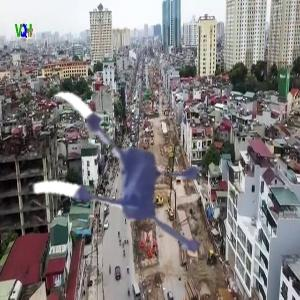drone: (11, 77, 225, 291)
